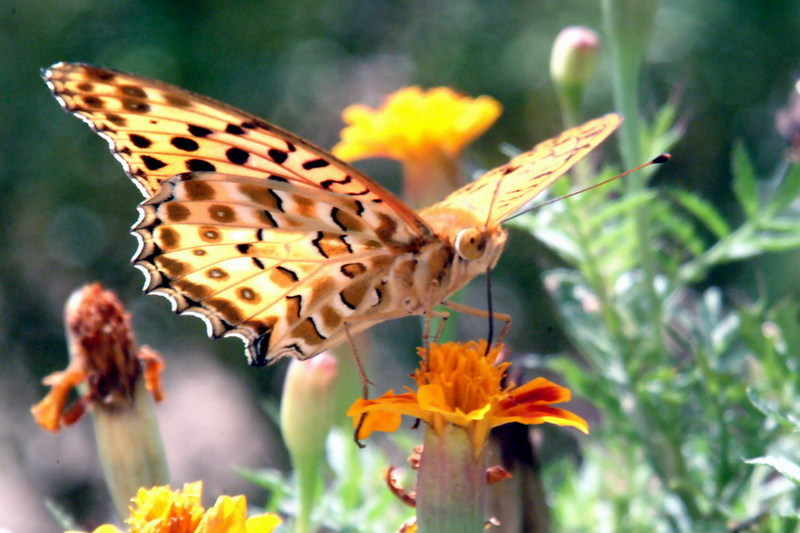Argyreus hyperbius: (37, 51, 672, 401)
butterfly: (39, 53, 674, 403)
